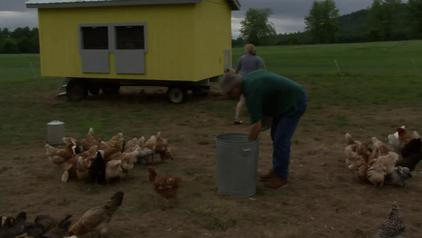down: (153, 175, 178, 197)
